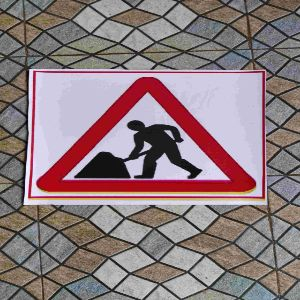men at work: (30, 69, 269, 205)
